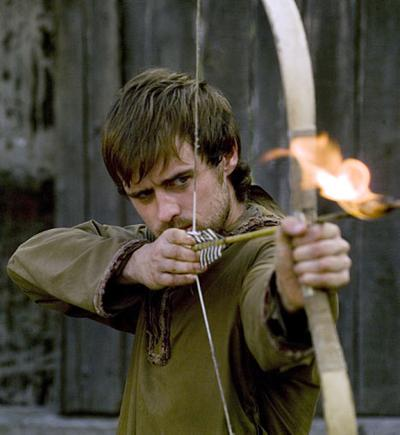person: (7, 63, 356, 430)
